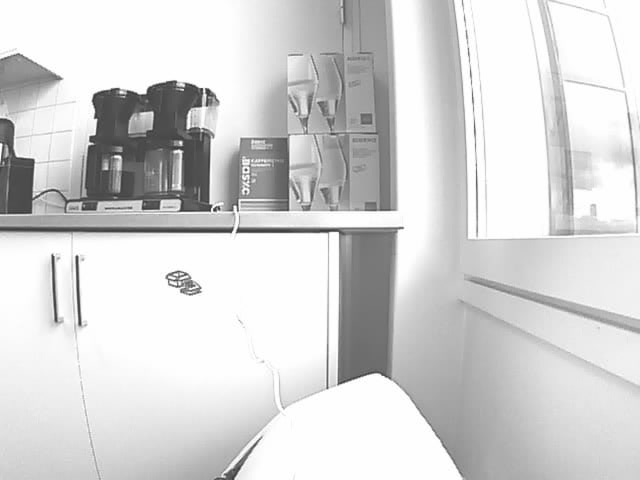not empty coffee: (79, 143, 137, 197)
